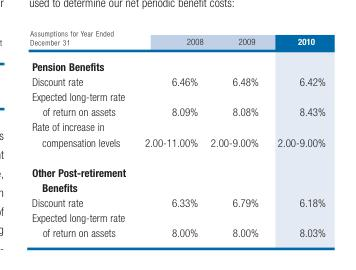table: (29, 28, 324, 238)
table column: (29, 28, 134, 238), (134, 28, 206, 238), (206, 28, 267, 238), (267, 28, 324, 238)
table column header: (29, 28, 324, 52)
table projected row header: (29, 156, 324, 194), (29, 52, 324, 73)
table row: (29, 118, 324, 156), (29, 156, 324, 194), (29, 88, 324, 118), (29, 209, 324, 238), (29, 28, 324, 52), (29, 52, 324, 73), (29, 73, 324, 88), (29, 194, 324, 209)
